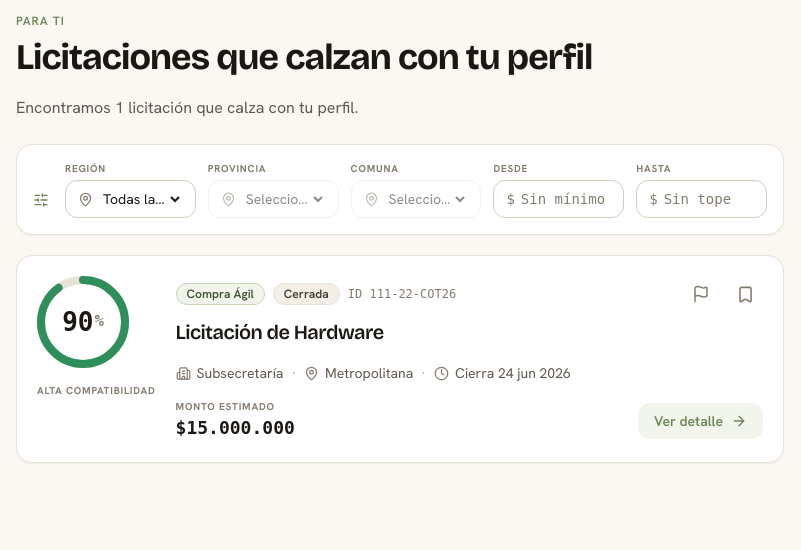
Test: MatchesDashboard (CA-5: Rollback y notificación en error de red) › aplica rollback al estado previo y muestra notificación cuando falla guardar por error de red
This screenshot has width=801, height=550.
Expected: the heading "Licitación de Hardware" is shown, [176,320,384,344]
Step 1. Click the button named "Guardar licitación" → [745, 294], box [727,276,763,312]
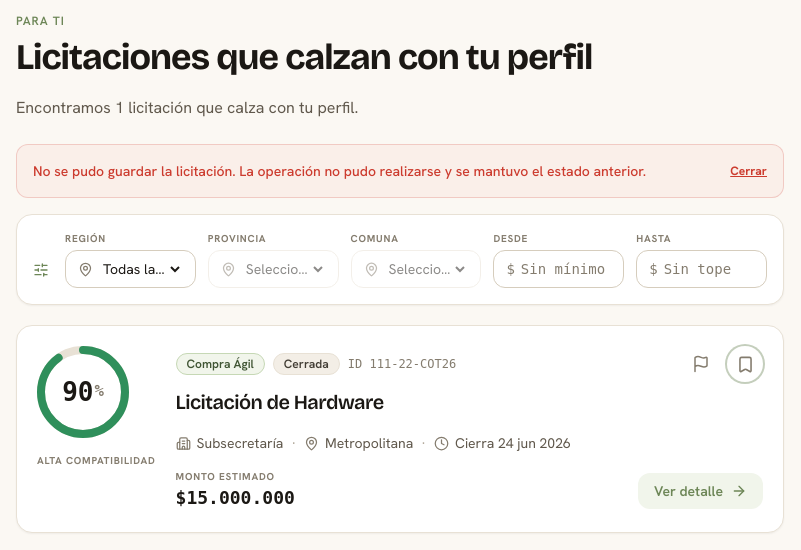
Expected: the button named "Guardar licitación" is shown, [727,346,763,382]
Result: the message shows "No se pudo guardar la licitación. La operación no pudo realizarse y se mantuvo el estado anterior." at [33,162,646,180]
Result: the message shows "la operación no pudo realizarse y se mantuvo el estado anterior" at [33,162,646,180]
